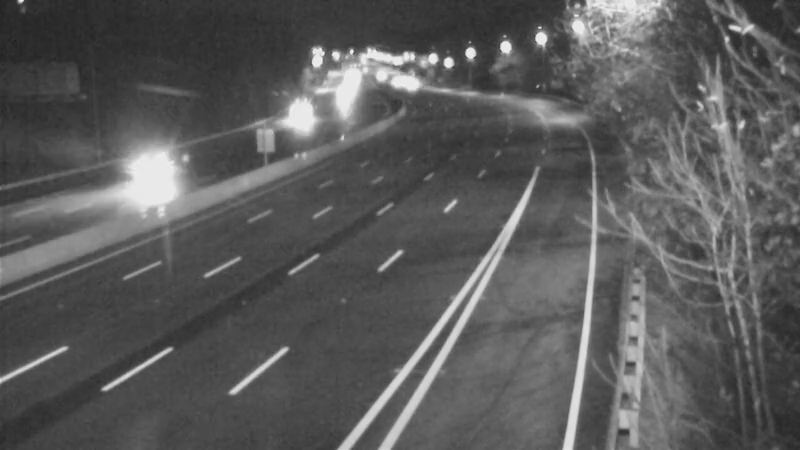vehicle: (111, 126, 191, 206), (386, 62, 436, 112), (269, 93, 319, 143), (319, 69, 369, 119)
